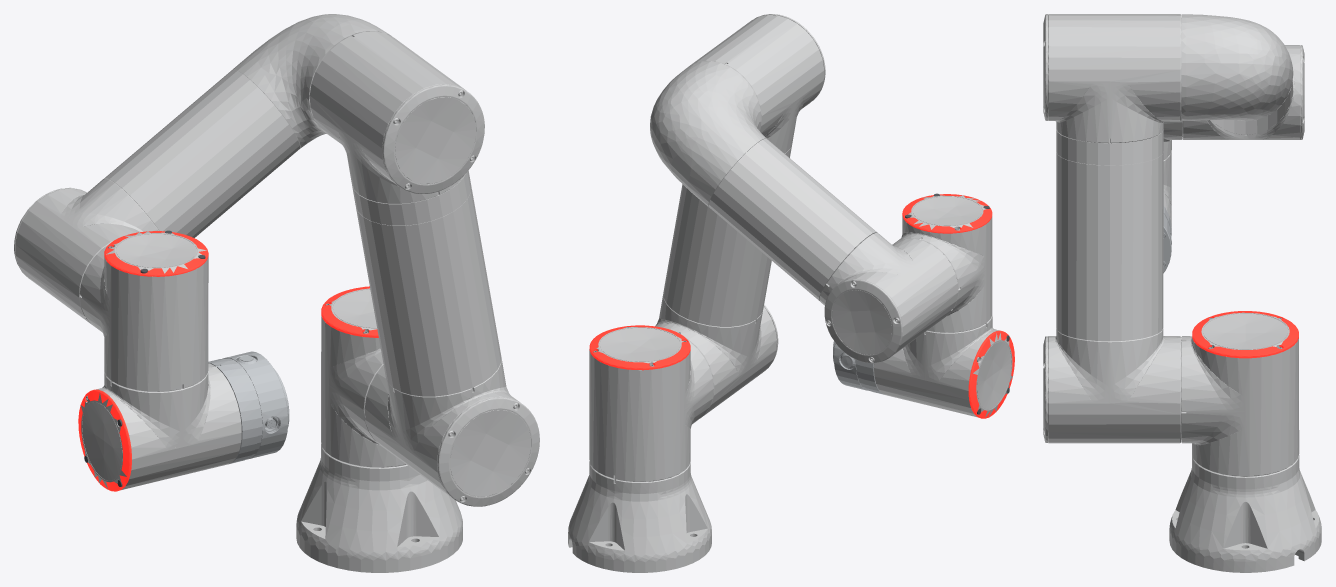
3 views of the same model, side by side, from view 1: azimuth 30°, elevation 25°; view 2: azimuth 150°, elevation 25°; view 3: azimuth 270°, elevation 25° (orthographic). The views are drawn at different scales.
Parts seen in each view (by area): view 1: Link_2_UpperArm_fr5_white_gloss, Link_3_Forearm_fr5_white_gloss, Link_4_Wrist1_fr5_white_gloss, Link_0_Base_fr5_white_gloss, Link_5_Wrist2_fr5_white_gloss, Link_1_Shoulder_fr5_white_gloss, Link_6_Flange_fr5_flange_alu, Link_5_Wrist2_fr5_led_ring, Link_4_Wrist1_fr5_led_ring, Link_1_Shoulder_fr5_led_ring; view 2: Link_3_Forearm_fr5_white_gloss, Link_2_UpperArm_fr5_white_gloss, Link_1_Shoulder_fr5_white_gloss, Link_0_Base_fr5_white_gloss, Link_5_Wrist2_fr5_white_gloss, Link_4_Wrist1_fr5_white_gloss, Link_1_Shoulder_fr5_led_ring, Link_6_Flange_fr5_flange_alu, Link_5_Wrist2_fr5_led_ring, Link_4_Wrist1_fr5_led_ring; view 3: Link_2_UpperArm_fr5_white_gloss, Link_1_Shoulder_fr5_white_gloss, Link_3_Forearm_fr5_white_gloss, Link_0_Base_fr5_white_gloss, Link_1_Shoulder_fr5_led_ring, Link_4_Wrist1_fr5_white_gloss, Link_5_Wrist2_fr5_white_gloss, Link_6_Flange_fr5_flange_alu.
Boxes of the visible parts, x1=… form: Link_2_UpperArm_fr5_white_gloss: x1=309, y1=31, x2=539, y2=506; Link_3_Forearm_fr5_white_gloss: x1=14, y1=14, x2=392, y2=324; Link_4_Wrist1_fr5_white_gloss: x1=79, y1=231, x2=208, y2=391; Link_0_Base_fr5_white_gloss: x1=296, y1=444, x2=462, y2=572; Link_5_Wrist2_fr5_white_gloss: x1=80, y1=363, x2=241, y2=489; Link_1_Shoulder_fr5_white_gloss: x1=321, y1=288, x2=405, y2=467; Link_6_Flange_fr5_flange_alu: x1=208, y1=351, x2=289, y2=464; Link_5_Wrist2_fr5_led_ring: x1=78, y1=389, x2=131, y2=491; Link_4_Wrist1_fr5_led_ring: x1=104, y1=231, x2=208, y2=276; Link_1_Shoulder_fr5_led_ring: x1=321, y1=286, x2=378, y2=337; Link_3_Forearm_fr5_white_gloss: x1=650, y1=61, x2=958, y2=363; Link_2_UpperArm_fr5_white_gloss: x1=655, y1=14, x2=825, y2=418; Link_1_Shoulder_fr5_white_gloss: x1=589, y1=327, x2=713, y2=481; Link_0_Base_fr5_white_gloss: x1=568, y1=461, x2=711, y2=572; Link_5_Wrist2_fr5_white_gloss: x1=873, y1=315, x2=1012, y2=417; Link_4_Wrist1_fr5_white_gloss: x1=894, y1=195, x2=992, y2=332; Link_1_Shoulder_fr5_led_ring: x1=589, y1=325, x2=690, y2=370; Link_6_Flange_fr5_flange_alu: x1=833, y1=341, x2=884, y2=394; Link_5_Wrist2_fr5_led_ring: x1=968, y1=330, x2=1014, y2=418; Link_4_Wrist1_fr5_led_ring: x1=902, y1=194, x2=992, y2=233; Link_2_UpperArm_fr5_white_gloss: x1=1043, y1=14, x2=1181, y2=443; Link_1_Shoulder_fr5_white_gloss: x1=1181, y1=312, x2=1299, y2=476; Link_3_Forearm_fr5_white_gloss: x1=1181, y1=14, x2=1304, y2=139; Link_0_Base_fr5_white_gloss: x1=1169, y1=455, x2=1321, y2=572; Link_1_Shoulder_fr5_led_ring: x1=1192, y1=311, x2=1298, y2=358; Link_4_Wrist1_fr5_white_gloss: x1=1163, y1=118, x2=1182, y2=159; Link_5_Wrist2_fr5_white_gloss: x1=1163, y1=151, x2=1171, y2=227; Link_6_Flange_fr5_flange_alu: x1=1163, y1=206, x2=1171, y2=273.
Size of the model in its own units: 0.3686 by 0.4608 by 0.234.
